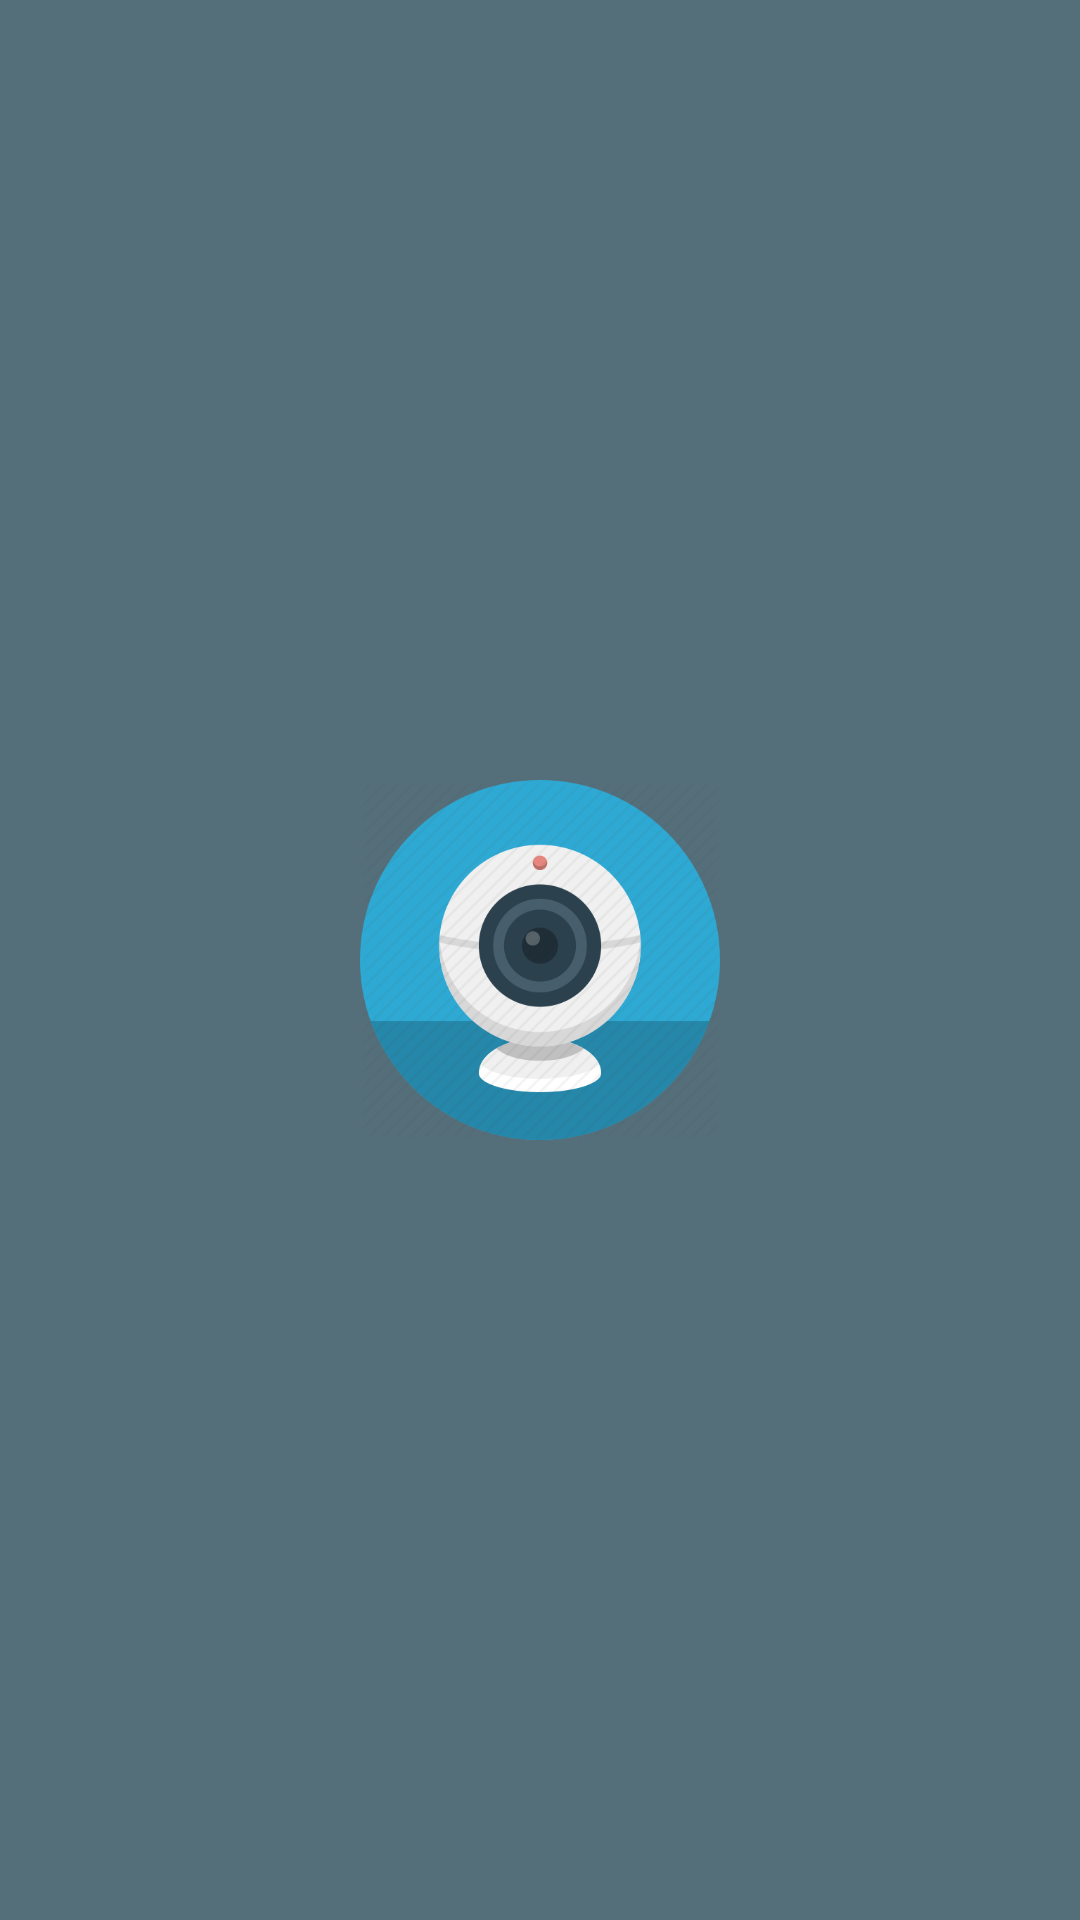

Icon click points for this 1080px x 1920px phone screenshot, format point (x, y):
webcam: point (540, 960)
